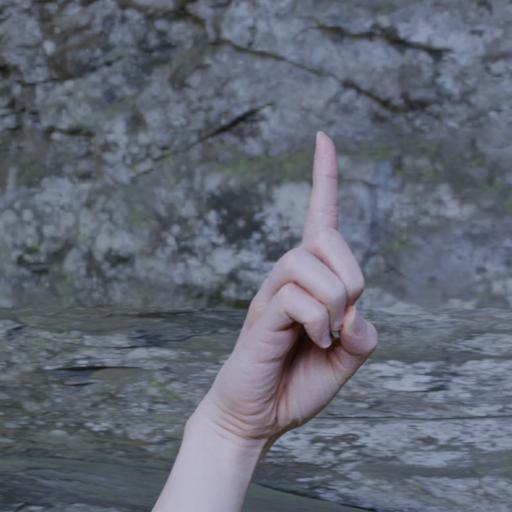D: (188, 127, 382, 461)
